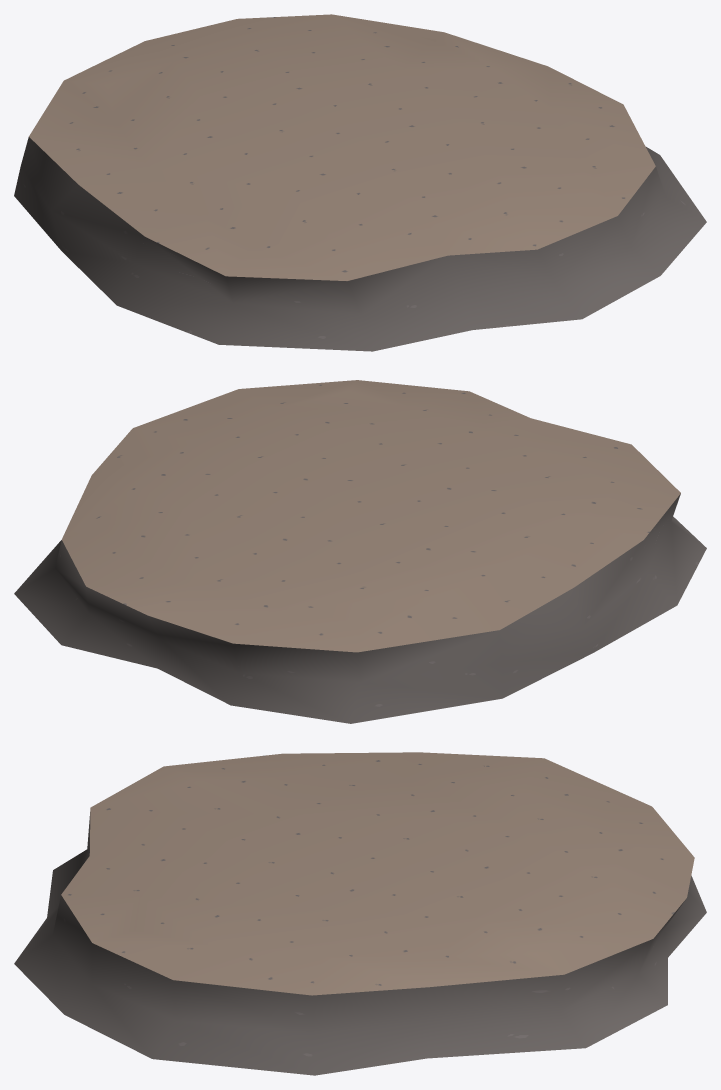
The model's file is BrownLand.FBX.
3 renders of one model, top to bottom at view 1: azimuth 30°, elevation 25°; view 2: azimuth 150°, elevation 25°; view 3: azimuth 270°, elevation 25°, orthographic.
Visible parts, largest first — view 1: dirtcliff_Mesh1_Model_040; view 2: dirtcliff_Mesh1_Model_040; view 3: dirtcliff_Mesh1_Model_040.
Part boxes in pixels (box(x1,y1,x2,y2)): dirtcliff_Mesh1_Model_040: box(14, 14, 706, 351); dirtcliff_Mesh1_Model_040: box(14, 380, 706, 723); dirtcliff_Mesh1_Model_040: box(14, 752, 706, 1075).
Bounding box in the file's own units: 81.28 × 9.99 × 85.96.
2 materials, 2 textured.
